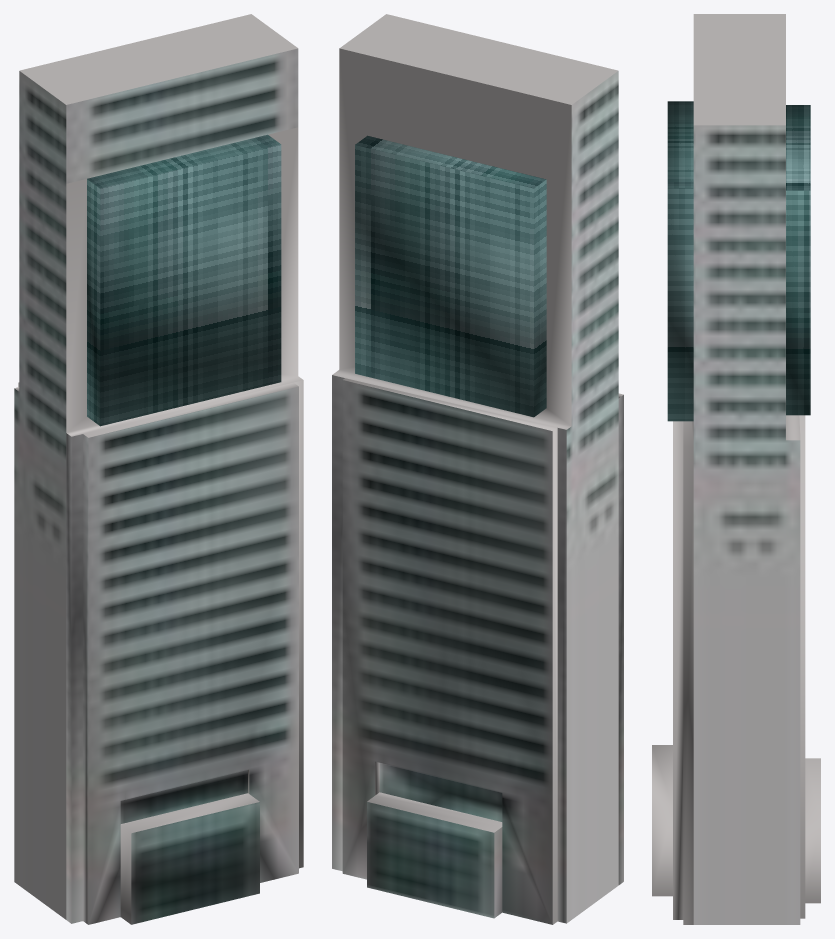
The model's file is Wanchai_Tower.dae.
The picture shows the model from 3 angles, left to right: view 1: azimuth 30°, elevation 25°; view 2: azimuth 150°, elevation 25°; view 3: azimuth 270°, elevation 25°; orthographic projection.
Parts seen in each view (by area): view 1: _Beige_1, _Black_, _Brown_, _Charcoal_, FrontColor; view 2: _Beige_1, _Black_, _Brown_, _Charcoal_, FrontColor; view 3: _Brown_, _Charcoal_, _Black_, FrontColor.
Part boxes in pixels (box(x1,y1,x2,y2)): _Beige_1: box(66, 48, 298, 924); _Black_: box(87, 134, 281, 426); _Brown_: box(14, 71, 66, 919); _Charcoal_: box(14, 127, 303, 924); FrontColor: box(19, 14, 297, 104); _Beige_1: box(332, 375, 623, 924); _Black_: box(355, 135, 546, 417); _Brown_: box(566, 71, 618, 923); _Charcoal_: box(332, 48, 623, 924); FrontColor: box(340, 14, 617, 104); _Brown_: box(693, 125, 800, 924); _Charcoal_: box(652, 415, 820, 924); _Black_: box(667, 101, 810, 421); FrontColor: box(693, 14, 785, 125).
Size of the model in its own units: 41.11 by 26.39 by 138.
Materials: 4 (4 with a texture image).
